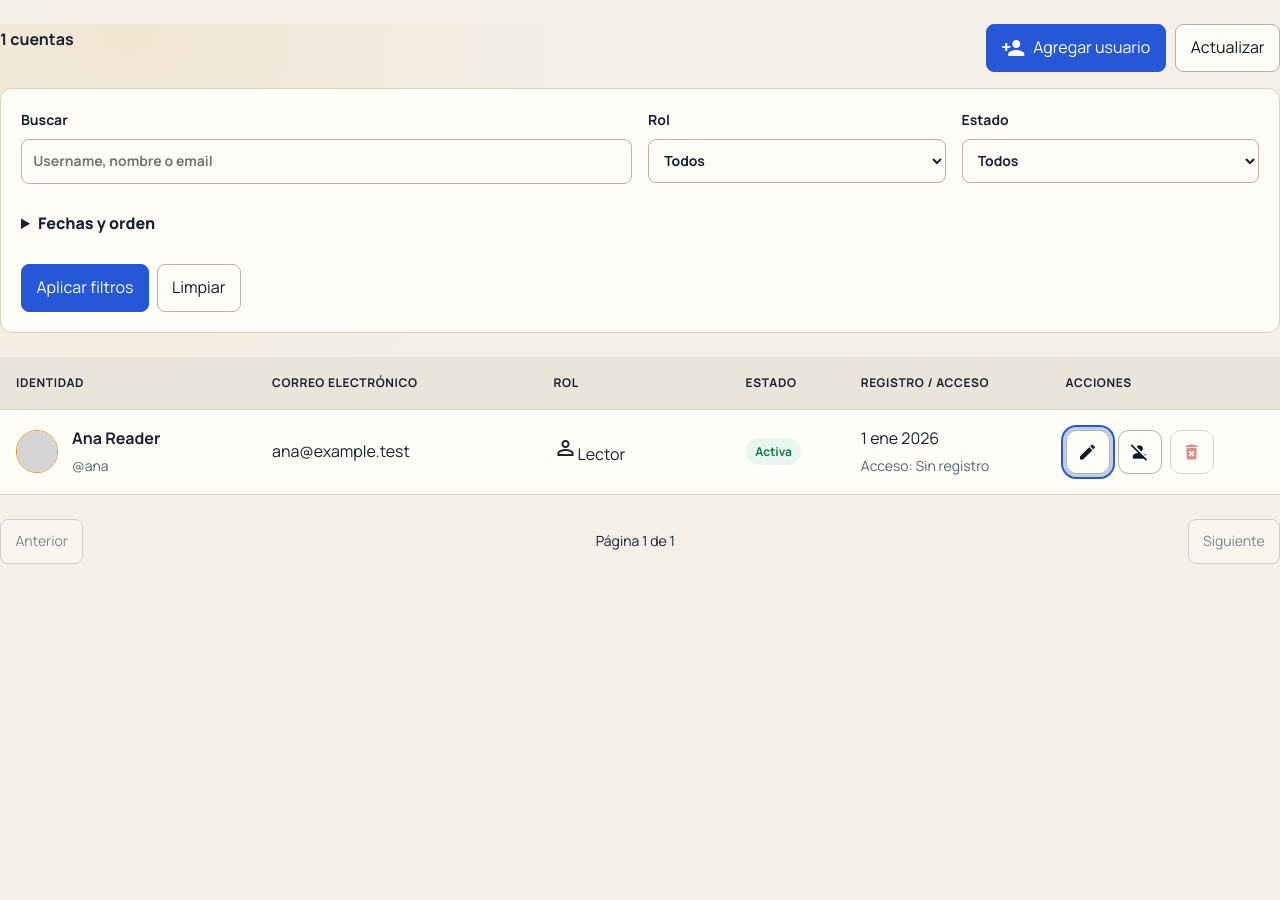
Test: AdminUsersComponent › submits all editable fields in one update and refreshes the visible user
The image size is (1280, 900).
Click the button named "Editar usuario ana" at (1088, 452), box [1066, 430, 1110, 474]
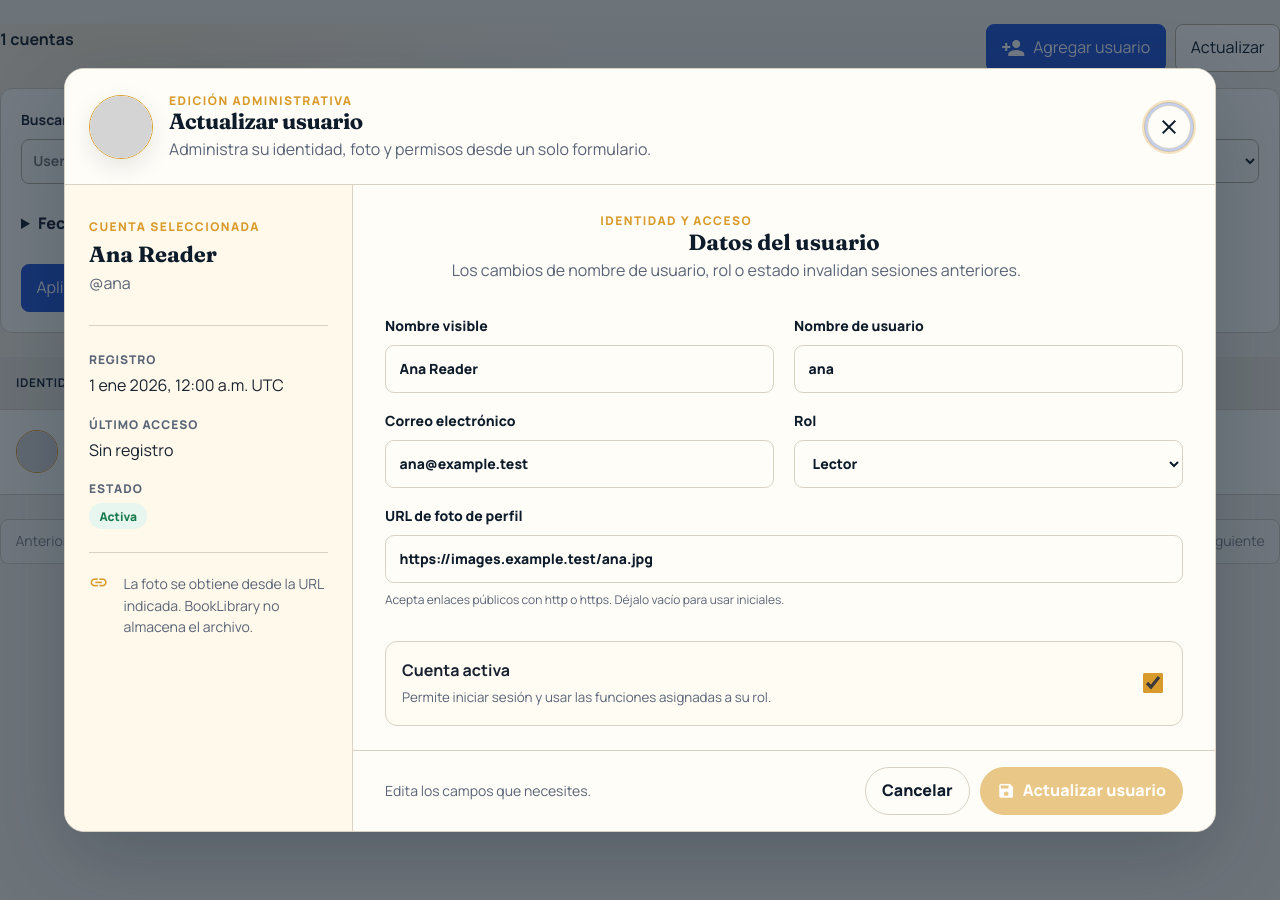
Replace the text in the field named "displayName" with "Ana Actualizada" at (580, 369), box [385, 345, 774, 393]
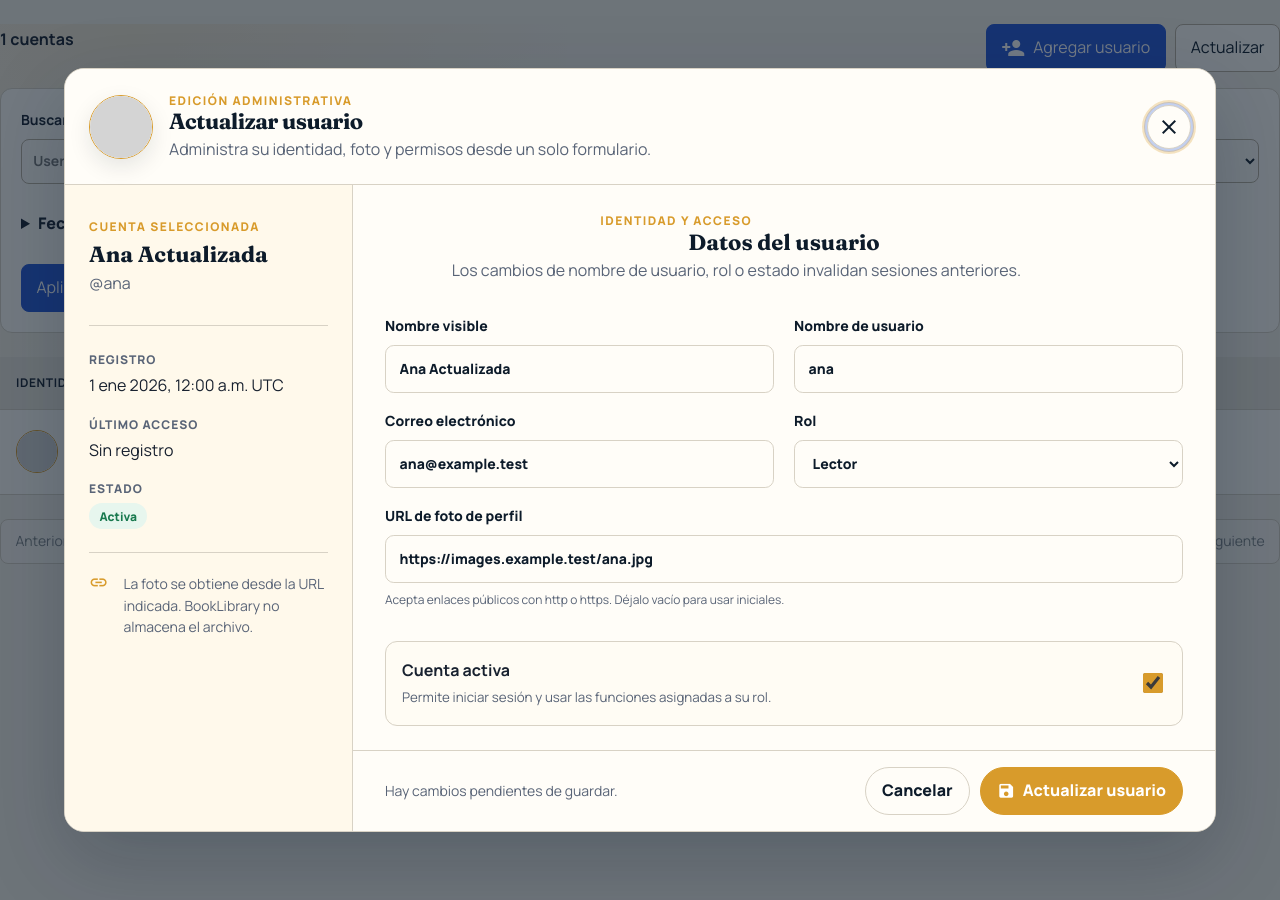
Click the button "Actualizar usuario" at (1082, 791), box [980, 766, 1183, 815]
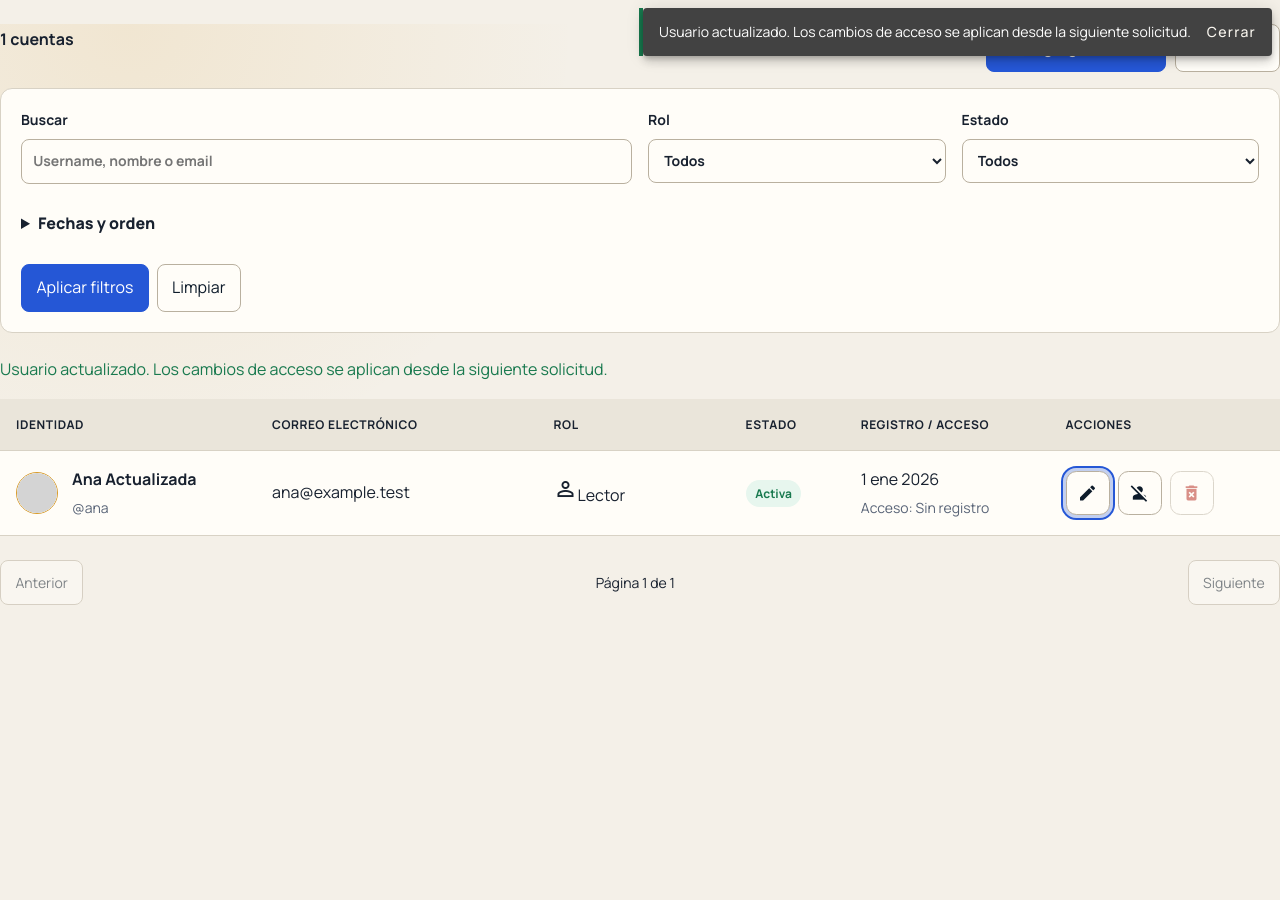
Now the text "Usuario actualizado" is shown, box [0, 358, 608, 380]
Now the dialog with class "user-editor-modal" is gone
